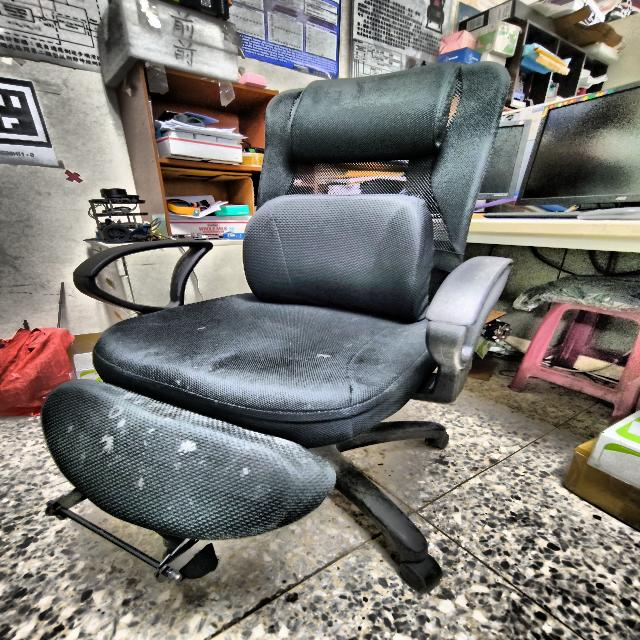cadeira: (44, 51, 521, 598)
